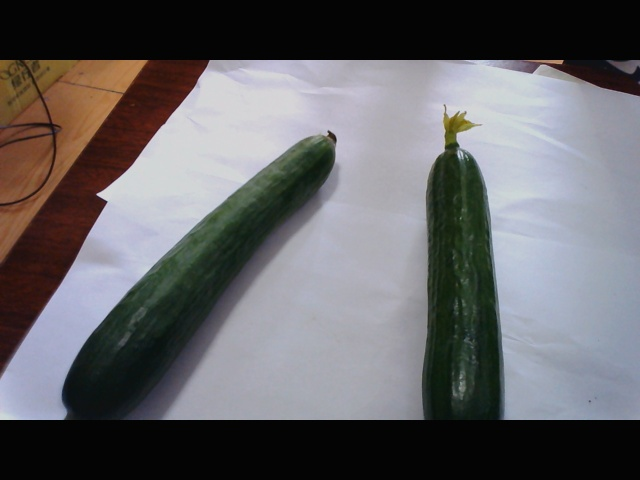cucumber: (64, 104, 343, 414), (404, 131, 524, 427)
